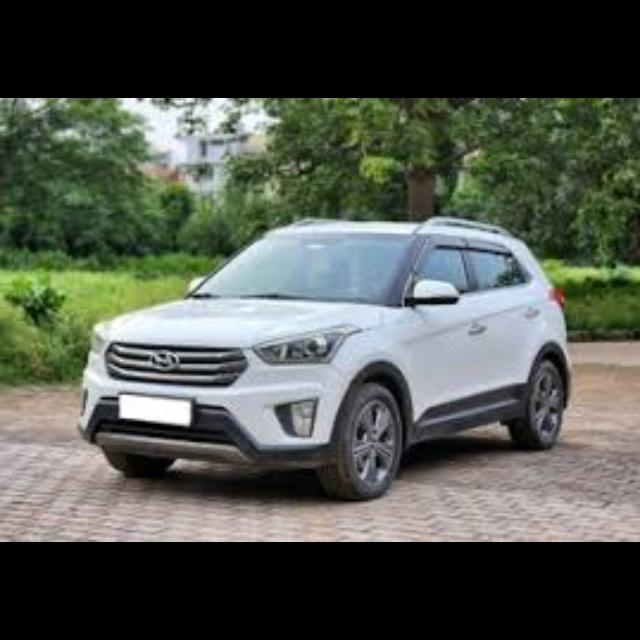vehicles: (76, 208, 584, 502)
